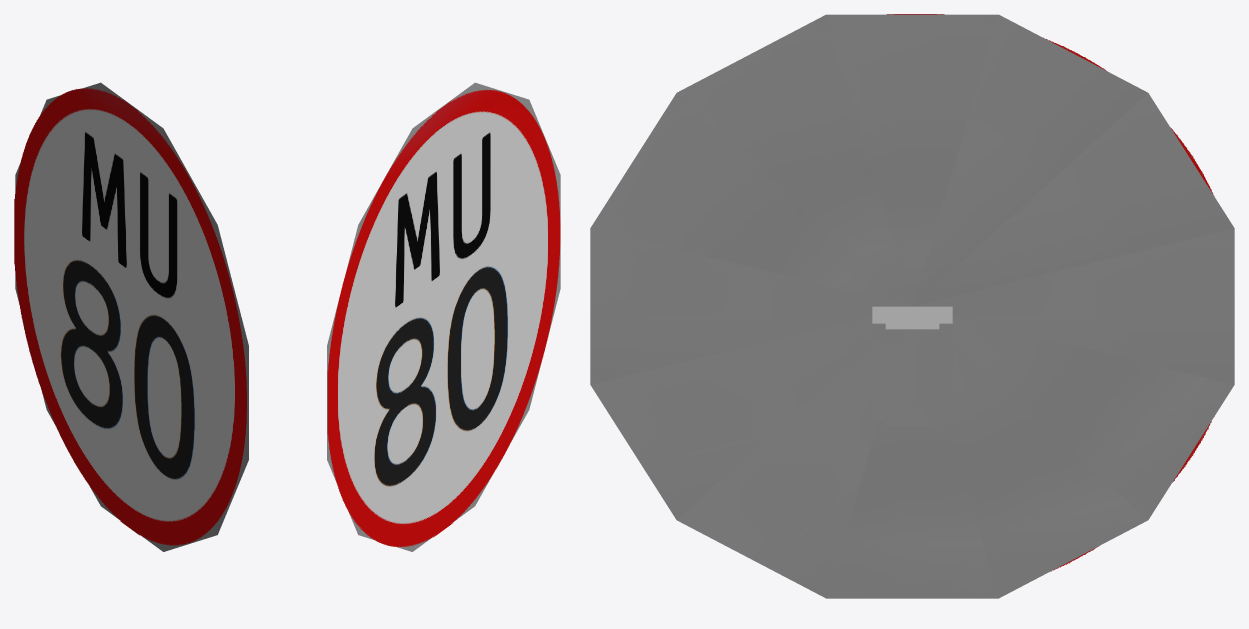
Rendered from speed_80_mu_medium.obj.
The picture shows the model from 3 angles, left to right: view 1: azimuth 30°, elevation 25°; view 2: azimuth 150°, elevation 25°; view 3: azimuth 270°, elevation 25°; orthographic projection. The views are drawn at different scales.
Parts seen in each view (by area): view 1: cube, circle; view 2: cube, circle; view 3: circle, cube.
Boxes of the visible parts, <box> form: cube: <box>14,88,246,545</box>; circle: <box>15,82,248,551</box>; cube: <box>327,89,560,547</box>; circle: <box>327,82,560,551</box>; circle: <box>590,14,1234,598</box>; cube: <box>872,14,1214,571</box>.
Bounding box in the file's own units: 0.0641 × 0.75 × 0.75.
2 materials, 2 textured.
